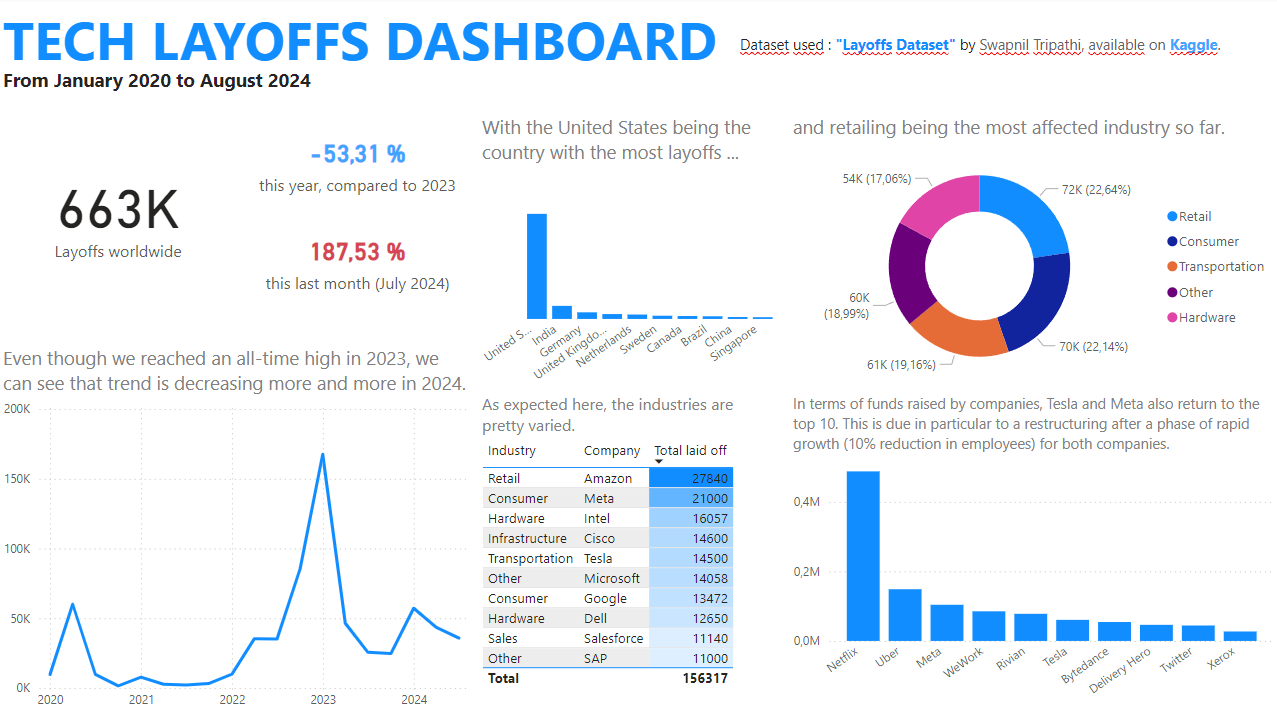

The dashboard page shown, as its layout file describes it:
{"tool":"powerbi","page":{"name":"Page 1","canvas":[1280,720],"ordinal":0},"visuals":[{"type":"card","fields":{"Values":["Sum(layoffs_cleantest.total_laid_off)"]},"box":[0,116.9,239.8,195.8],"z":0},{"type":"lineChart","title":"Even though we reached an all-time high in 2023, we can see that trend is decreasing more and more in 2024.","fields":{"Y":["Sum(layoffs_cleantest.total_laid_off)"],"Category":["layoffs_cleantest.date.Variation.Hiérarchie de dates.Année","layoffs_cleantest.date.Variation.Hiérarchie de dates.Trimestre"]},"box":[0,347.7,478.6,372.7],"z":1000},{"type":"card","fields":{"Values":["layoffs_cleantest.TV2423"]},"box":[239.8,116.9,238.8,97.9],"z":2000},{"type":"card","fields":{"Values":["layoffs_cleantest.TVJulyAug24"]},"box":[239.8,214.8,238.8,97.9],"z":3000},{"type":"columnChart","title":"With the United States being the country with the most layoffs ...","fields":{"Category":["layoffs_cleantest.country"],"Y":["Sum(layoffs_cleantest.total_laid_off)"]},"box":[478.6,116.9,310.8,278.8],"z":4000},{"type":"donutChart","title":"and retailing being the most affected industry so far.","fields":{"Category":["layoffs_cleantest.industry"],"Y":["Sum(layoffs_cleantest.total_laid_off)"]},"box":[789.4,116.9,490.6,278.8],"z":5000},{"type":"tableEx","title":"As expected here, the industries are pretty varied.","fields":{"Values":["layoffs_cleantest.industry","layoffs_cleantest.company","Sum(layoffs_cleantest.total_laid_off)"]},"box":[478.6,395.7,271.8,324.7],"z":6000},{"type":"columnChart","title":"In terms of funds raised by companies, Tesla and Meta also return to the top 10. This is due in particular to a restructuring after a phase of rapid growth (10% reduction in employees) for both compan","fields":{"Category":["layoffs_cleantest.company"],"Y":["Sum(layoffs_cleantest.funds_raised)"]},"box":[789.4,395.7,490.6,324.7],"z":7000},{"type":"textbox","box":[0,0,736.4,89.9],"z":7001},{"type":"textbox","box":[0,64.9,534.6,49],"z":7002},{"type":"textbox","box":[736.4,32,522.6,64.9],"z":7003}]}

Visuals, with their boxes in screenshot pixels (x1, y1, x2, y2), scaled from the page's 1280x720 canvas onto the 1277x715 screenshot:
card - Sum(layoffs_cleantest.total_laid_off): [0,116,239,311]
"Even though we reached an all-time high in 2023, we can see that trend is decreasing more and more in 2024." lineChart: [0,345,477,714]
card - layoffs_cleantest.TV2423: [239,116,477,213]
card - layoffs_cleantest.TVJulyAug24: [239,213,477,311]
"With the United States being the country with the most layoffs ..." columnChart: [477,116,788,393]
"and retailing being the most affected industry so far." donutChart: [788,116,1276,393]
"As expected here, the industries are pretty varied." tableEx: [477,393,749,714]
"In terms of funds raised by companies, Tesla and Meta also return to the top 10. This is due in particular to a restructuring after a phase of rapid growth (10% reduction in employees) for both compan" columnChart: [788,393,1276,714]
textbox: [0,0,735,89]
textbox: [0,64,533,113]
textbox: [735,32,1256,96]
